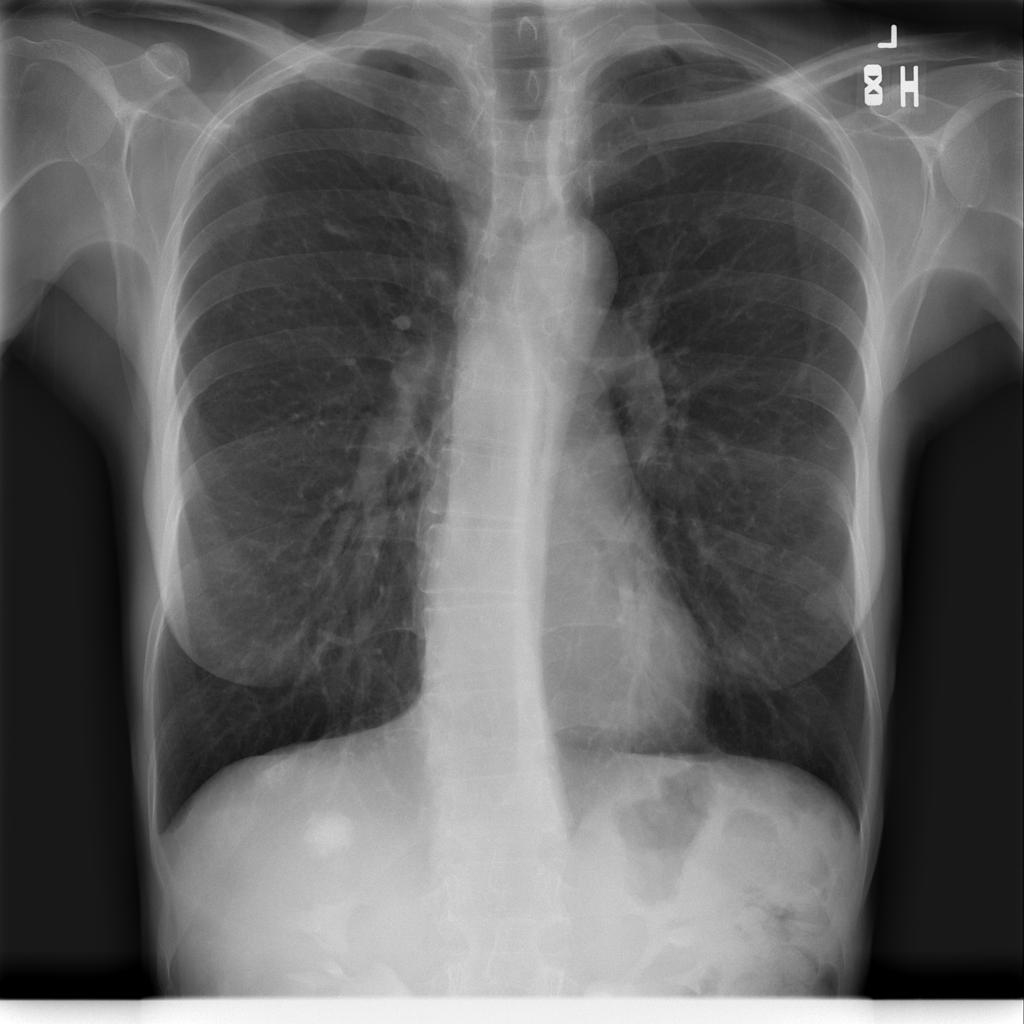nodule: (292, 795, 370, 870), (795, 577, 849, 628)
